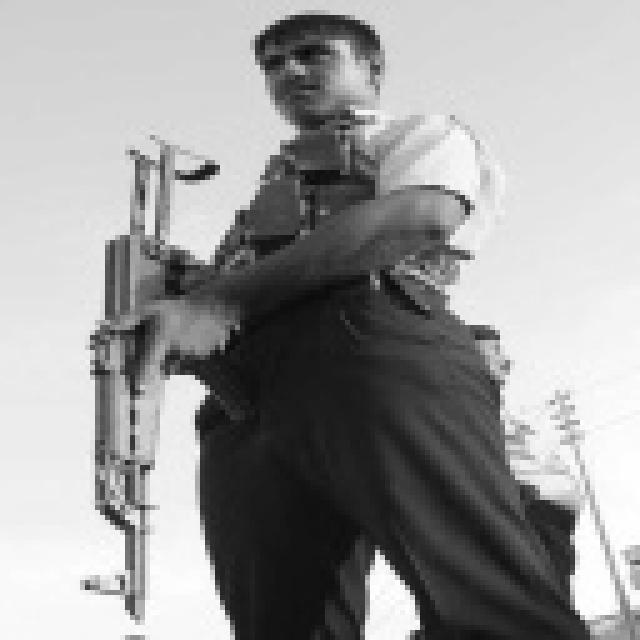Rifle: (36, 116, 252, 640)
